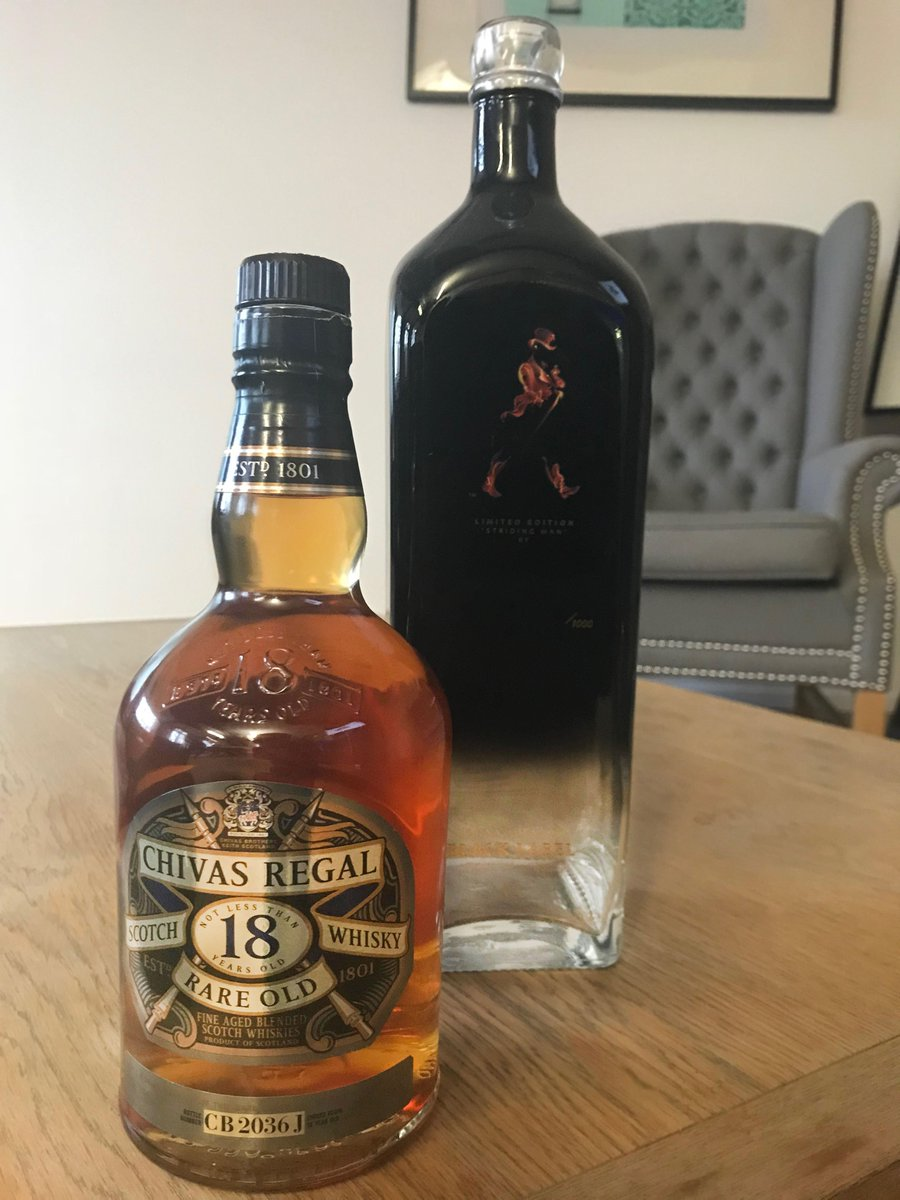Chivas Regal: (107, 245, 460, 1196)
